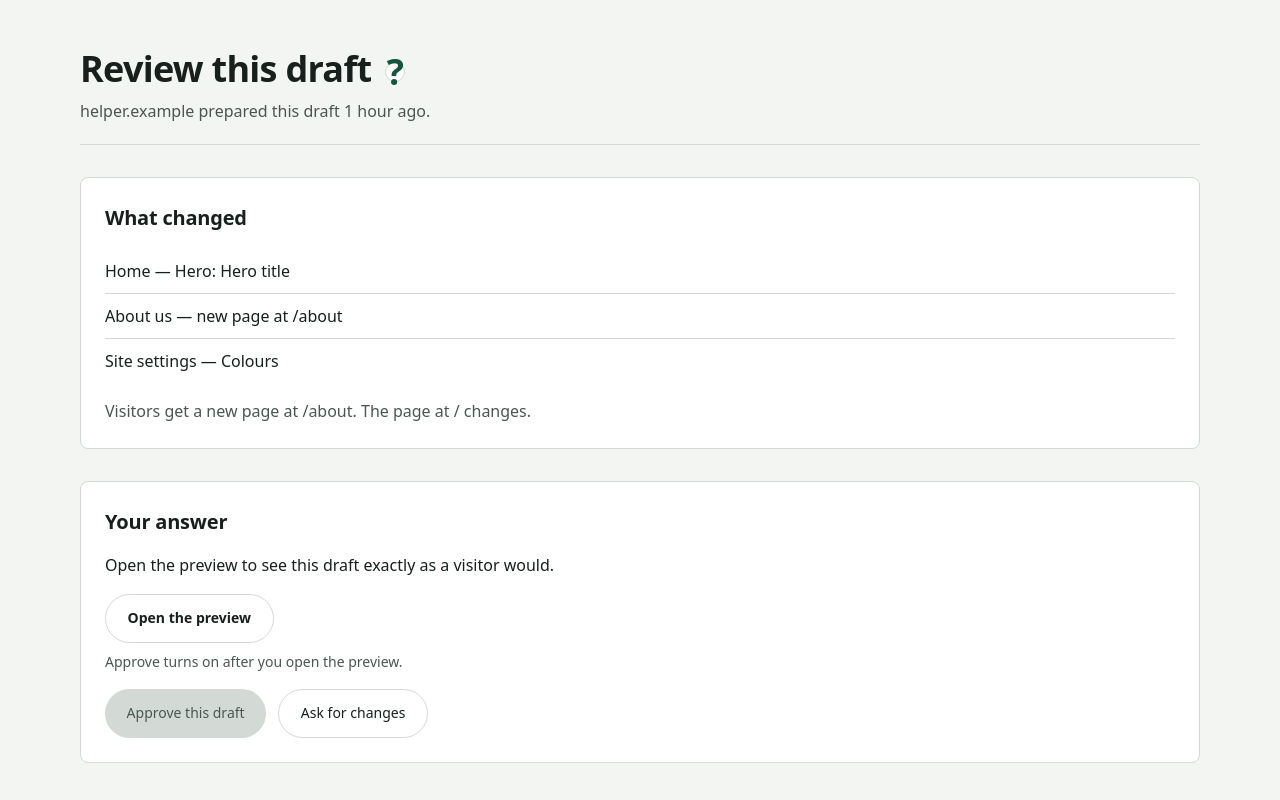
Draft review screen › leaves Approve off when the server no longer serves that preview
Click the link "Open the preview".
click(189, 618)  # box [105,594,274,643]
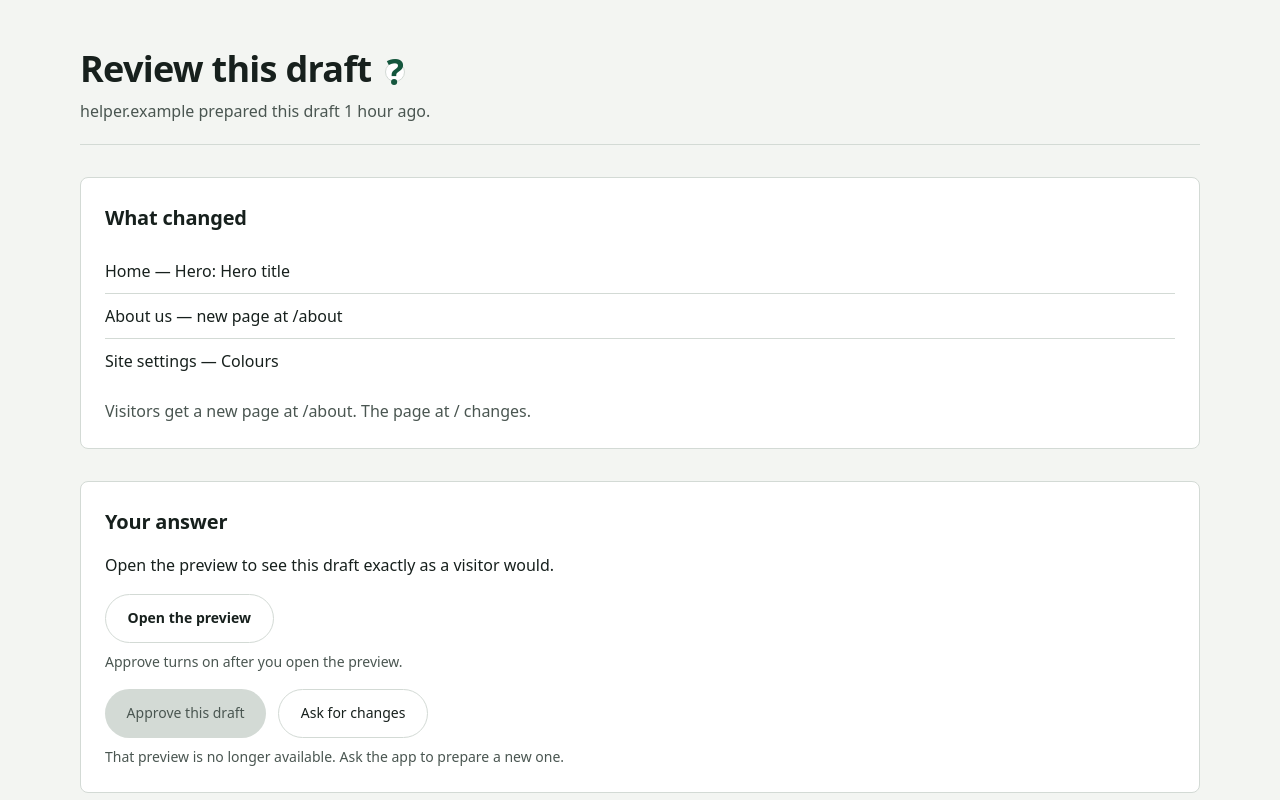
expect the button "Approve this draft" is disabled: met, box [105,689,266,738]
expect the text "no longer available" is shown: met, box [105,747,564,766]
